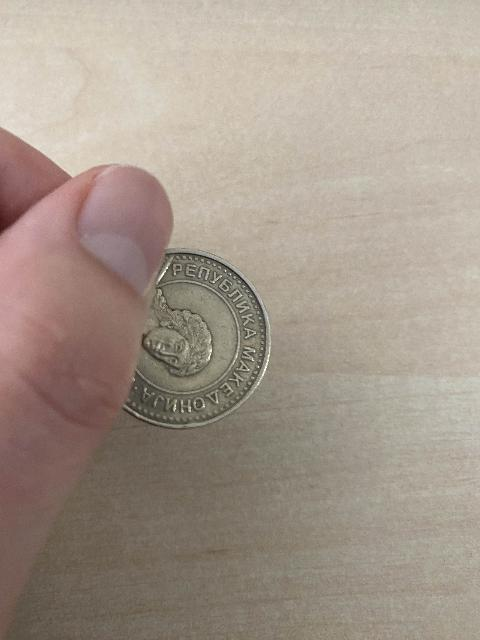coin: (134, 250, 268, 429)
